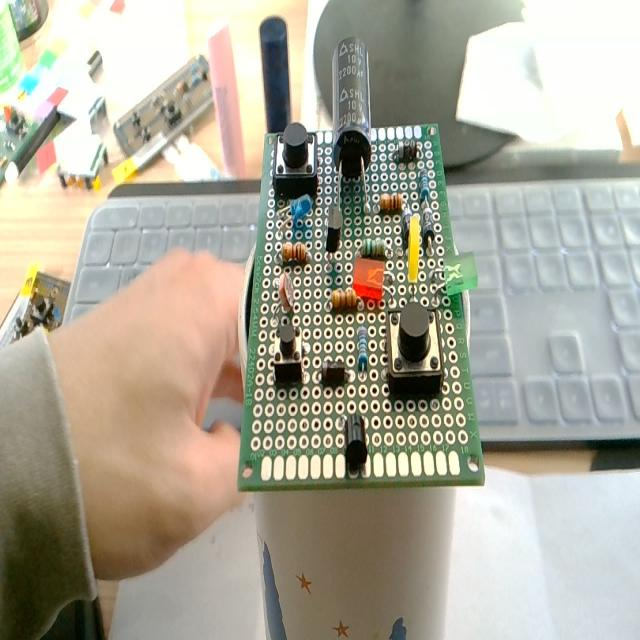Electrolytic capacitor: (324, 28, 376, 218)
cds: (266, 269, 300, 319)
diode: (387, 134, 425, 166)
led: (432, 248, 479, 310), (350, 252, 400, 304), (278, 187, 316, 233), (404, 212, 420, 295)
resistor: (276, 238, 314, 268), (372, 182, 409, 212), (320, 290, 361, 316), (353, 323, 371, 373)
switch: (379, 303, 447, 400), (266, 117, 324, 200), (272, 318, 306, 388)
transistor: (334, 402, 376, 472), (320, 206, 346, 276)
